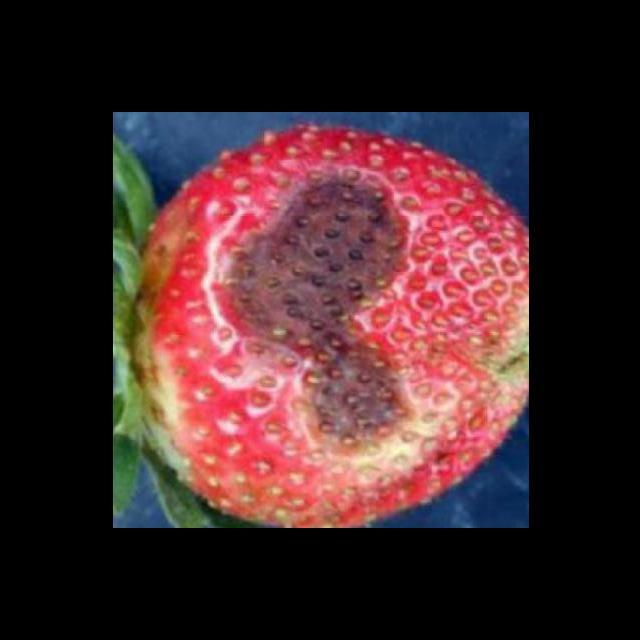Anthracnose Fruit Rot: (206, 164, 418, 466)
